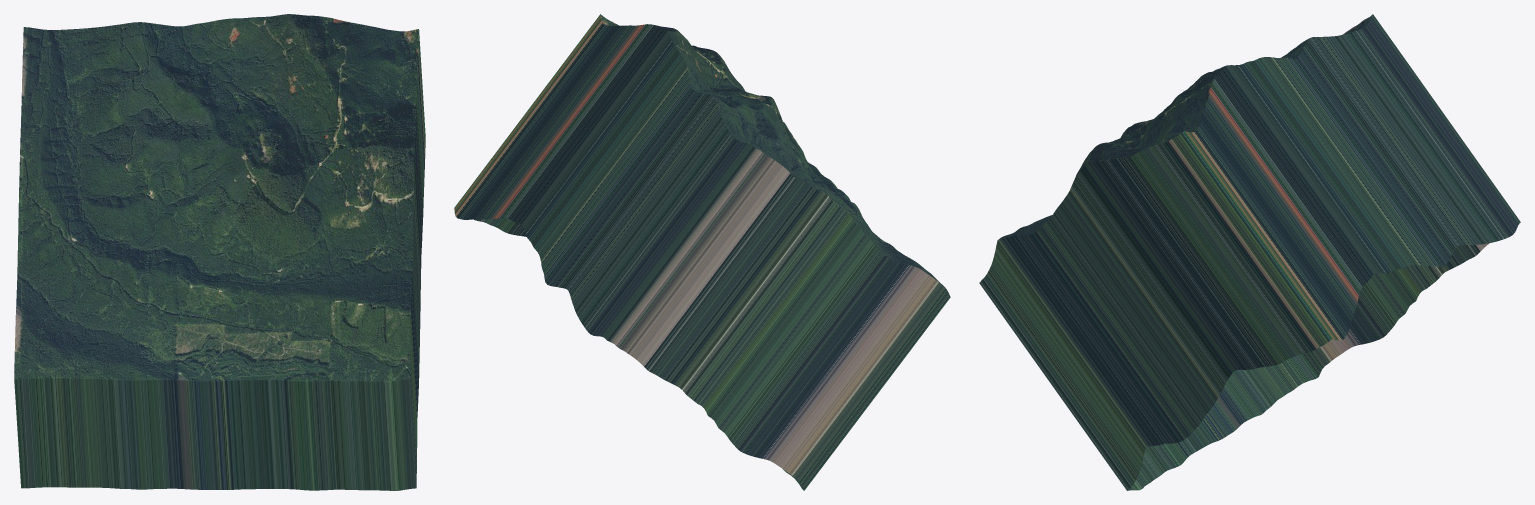
3 renders of one model, left to right at view 1: azimuth 30°, elevation 25°; view 2: azimuth 150°, elevation 25°; view 3: azimuth 270°, elevation 25°, orthographic. The views are drawn at different scales.
Size of the model in its own units: 5989 by 5233 by 6364.
1 material, 1 textured.
